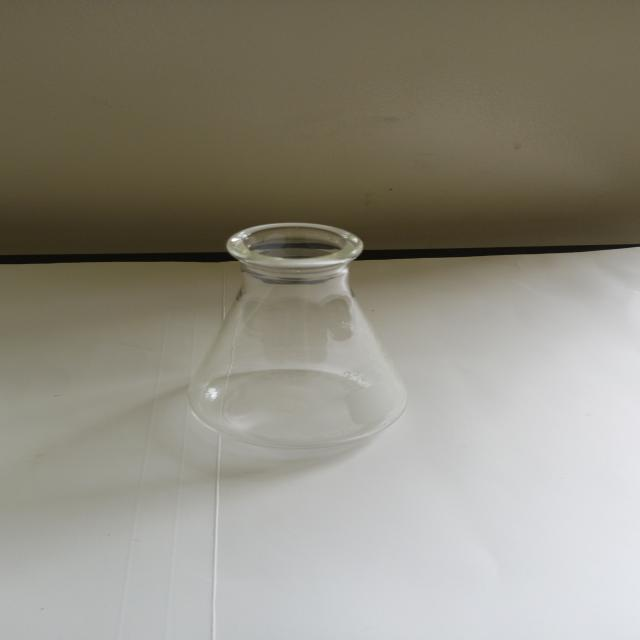erlenmeyer_flask: (175, 214, 421, 454)
